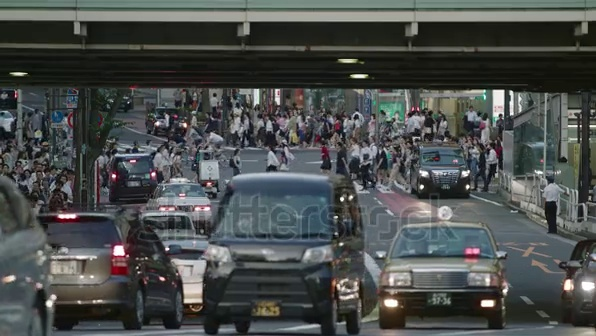licenseplate: (50, 259, 80, 276), (250, 301, 279, 316), (425, 291, 457, 302)
